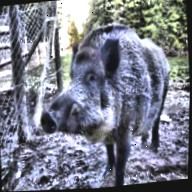boar: (30, 8, 190, 191)
